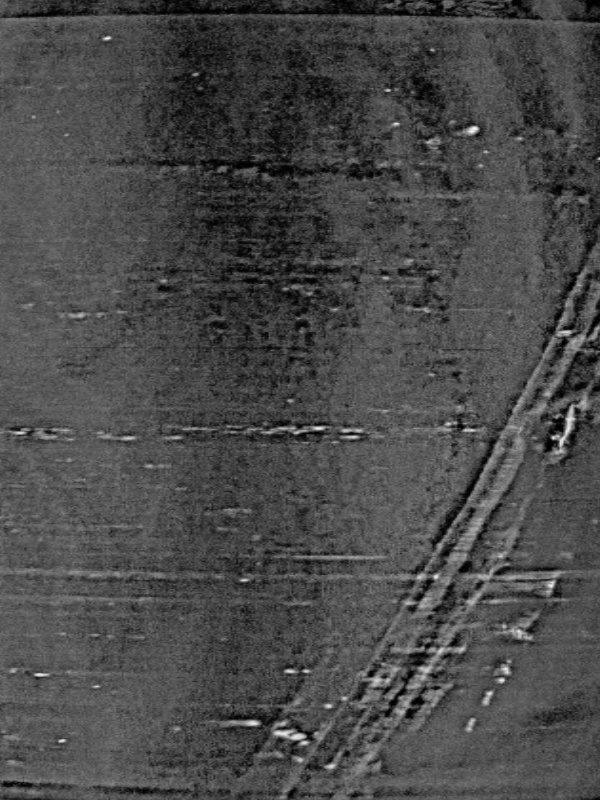splice_vulcanized: (220, 219, 600, 793)
